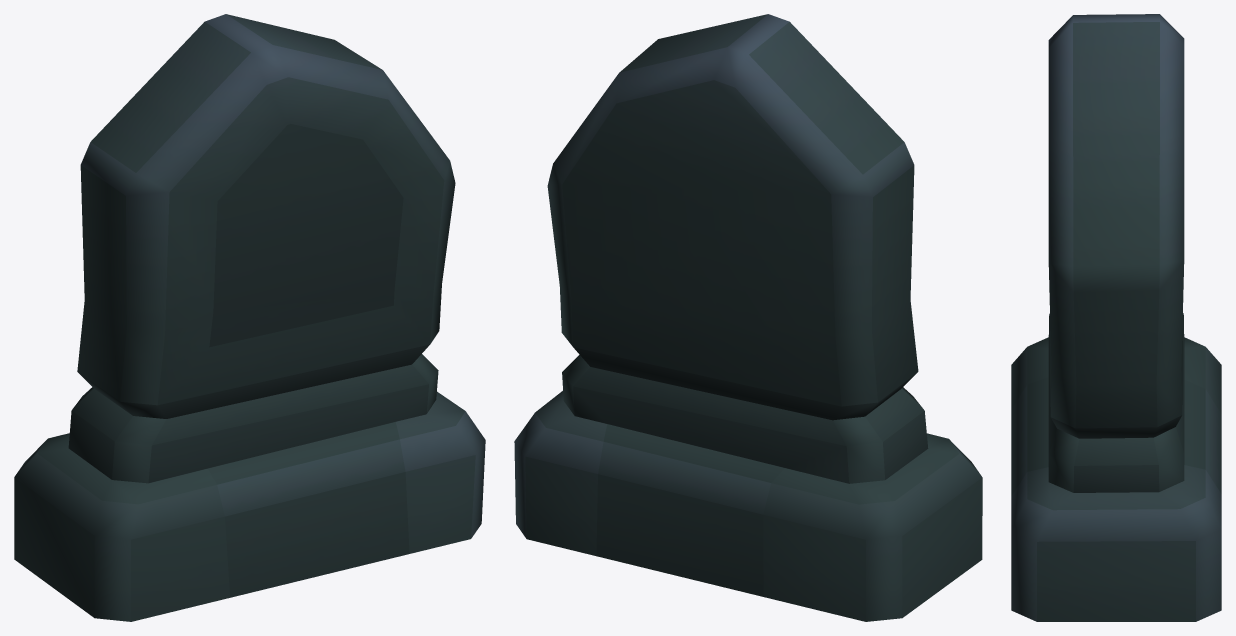
Rendered from undead_tomb_stone_6.fbx.
3 renders of one model, left to right at view 1: azimuth 30°, elevation 25°; view 2: azimuth 150°, elevation 25°; view 3: azimuth 270°, elevation 25°, orthographic.
Visible parts, largest first — view 1: undead_tomb_stone_6; view 2: undead_tomb_stone_6; view 3: undead_tomb_stone_6.
Boxes of the visible parts, x1,y1,x2,y2 form: undead_tomb_stone_6: (14,14,485,621); undead_tomb_stone_6: (514,14,982,621); undead_tomb_stone_6: (1011,14,1221,621).
Size of the model in its own units: 1.17 by 1.46 by 0.5478.
